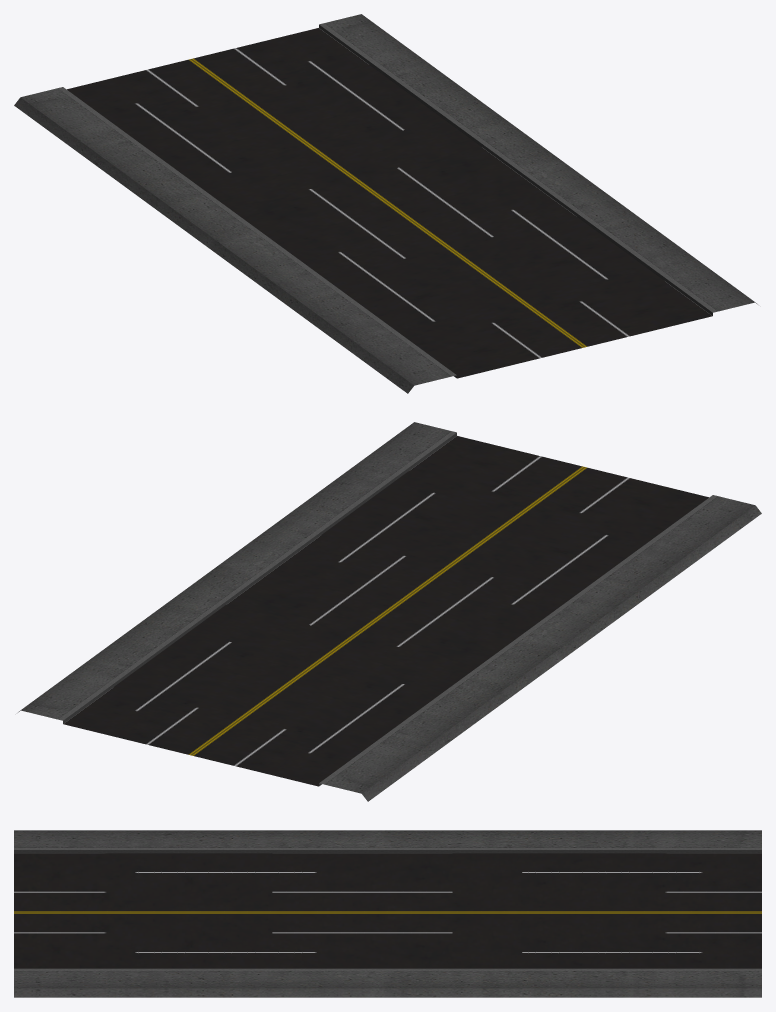
File: RJs_Road 3+3 Basic Segment.fbx
3 renders of one model, top to bottom at view 1: azimuth 30°, elevation 25°; view 2: azimuth 150°, elevation 25°; view 3: azimuth 270°, elevation 25°, orthographic. The views are drawn at different scales.
Visible parts, largest first — view 1: plane; view 2: plane; view 3: plane.
Boxes of the visible parts, x1,y1,x2,y2 form: plane: (14,14,757,393); plane: (18,422,761,801); plane: (14,830,761,997).
Size of the model in its own units: 3320 by 60.1 by 6400.
